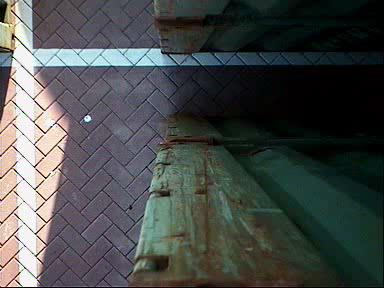groundmarker_2: (197, 231, 231, 288), (199, 61, 233, 117)
